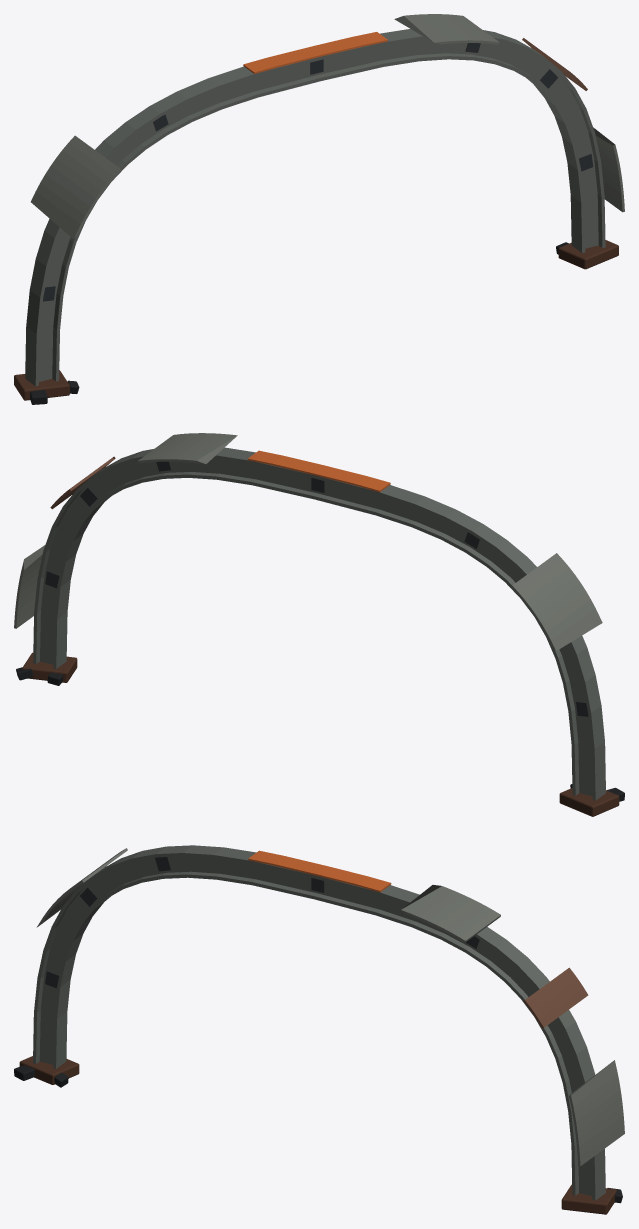
File: site_rib.glb
3 renders of one model, top to bottom at view 1: azimuth 30°, elevation 25°; view 2: azimuth 150°, elevation 25°; view 3: azimuth 330°, elevation 25°, orthographic.
Visible parts, largest first — view 1: rib, skin0, foot-1, band, gusset1; view 2: rib, skin0, foot-1, band, gusset1; view 3: rib, skin0, skin1, foot-1, band, gusset1, rubble-1_0.
Part boxes in pixels (x1,y1,x2,y2): rib: (25, 29, 605, 386); skin0: (31, 14, 624, 238); foot-1: (14, 240, 618, 400); band: (243, 32, 387, 73); gusset1: (43, 43, 593, 301); rib: (33, 447, 605, 800); skin0: (14, 433, 602, 650); foot-1: (22, 652, 619, 816); band: (247, 450, 390, 492); gusset1: (45, 461, 588, 716); rib: (33, 845, 605, 1200); skin0: (36, 848, 624, 1166); skin1: (523, 967, 588, 1028); foot-1: (19, 1056, 616, 1214); band: (248, 850, 391, 892); gusset1: (45, 857, 479, 988); rubble-1_0: (14, 1065, 622, 1203).
Size of the model in its own units: 22.85 by 10.06 by 3.
